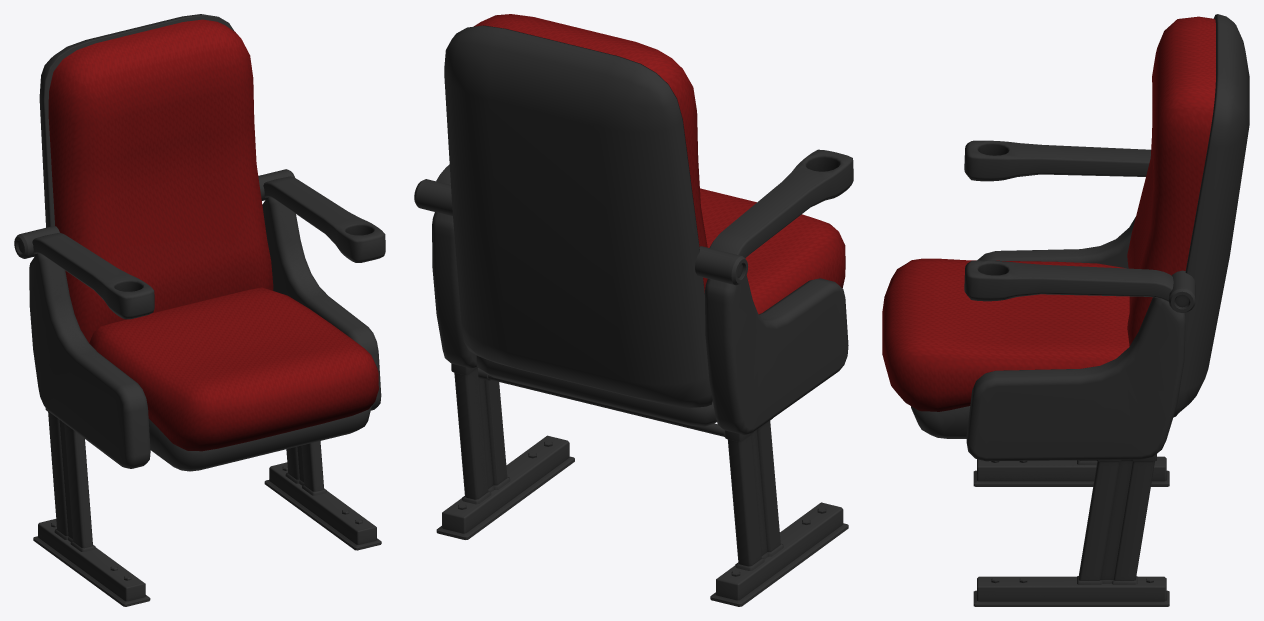
Rendered from silla_cine.glb.
The picture shows the model from 3 angles, left to right: view 1: azimuth 30°, elevation 25°; view 2: azimuth 150°, elevation 25°; view 3: azimuth 270°, elevation 25°; orthographic projection. The views are drawn at different scales.
Visible parts, largest first — view 1: model_1; view 2: model_1; view 3: model_1.
Boxes of the visible parts, x1,y1,x2,y2 form: model_1: (14, 14, 385, 606); model_1: (414, 14, 853, 606); model_1: (882, 14, 1249, 606).
Bounding box in the file's own units: 0.6081 × 0.99 × 0.6697.
1 material, 1 textured.
